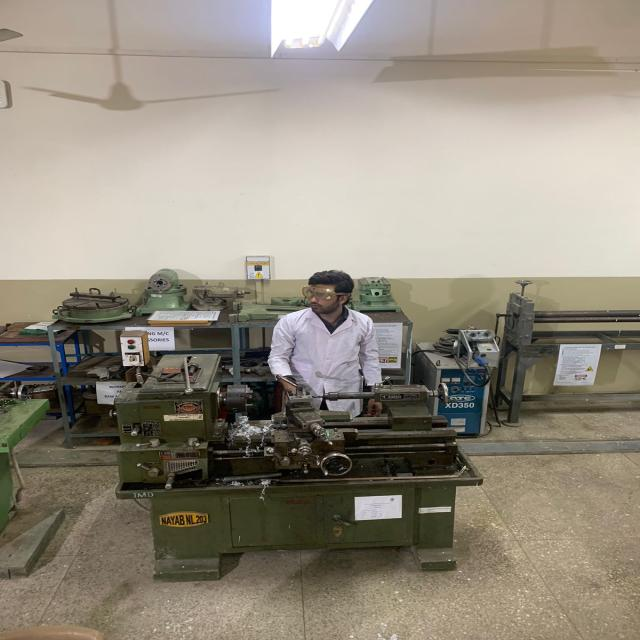googles: (300, 285, 334, 301)
labcoat: (269, 302, 383, 419)
